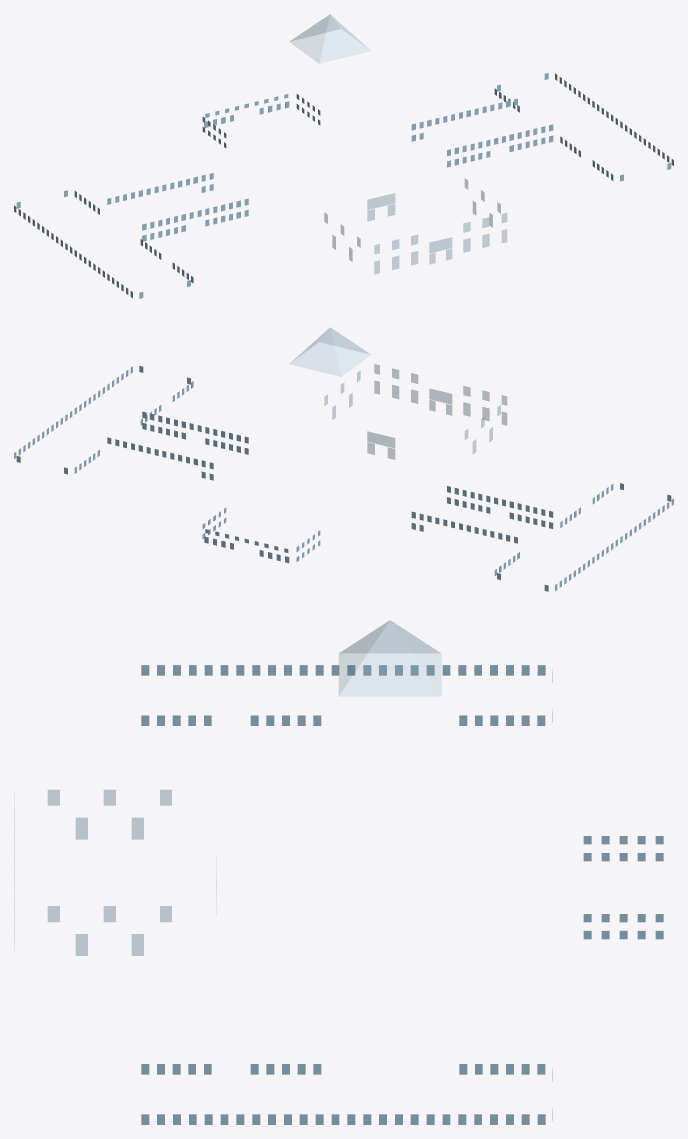
Rendered from SM_Academy_Main_Glass.fbx.
3 views of the same model, one above another, from view 1: azimuth 30°, elevation 25°; view 2: azimuth 150°, elevation 25°; view 3: azimuth 270°, elevation 25° (orthographic). The views are drawn at different scales.
Visible parts, largest first — view 1: SM_Academy_Main_Glass; view 2: SM_Academy_Main_Glass; view 3: SM_Academy_Main_Glass.
Boxes of the visible parts, box(x1,y1,x2,y2) form: SM_Academy_Main_Glass: box(14, 14, 673, 298); SM_Academy_Main_Glass: box(14, 327, 673, 591); SM_Academy_Main_Glass: box(14, 620, 663, 1124).
Bounding box in the file's own units: 228 × 67.02 × 141.
